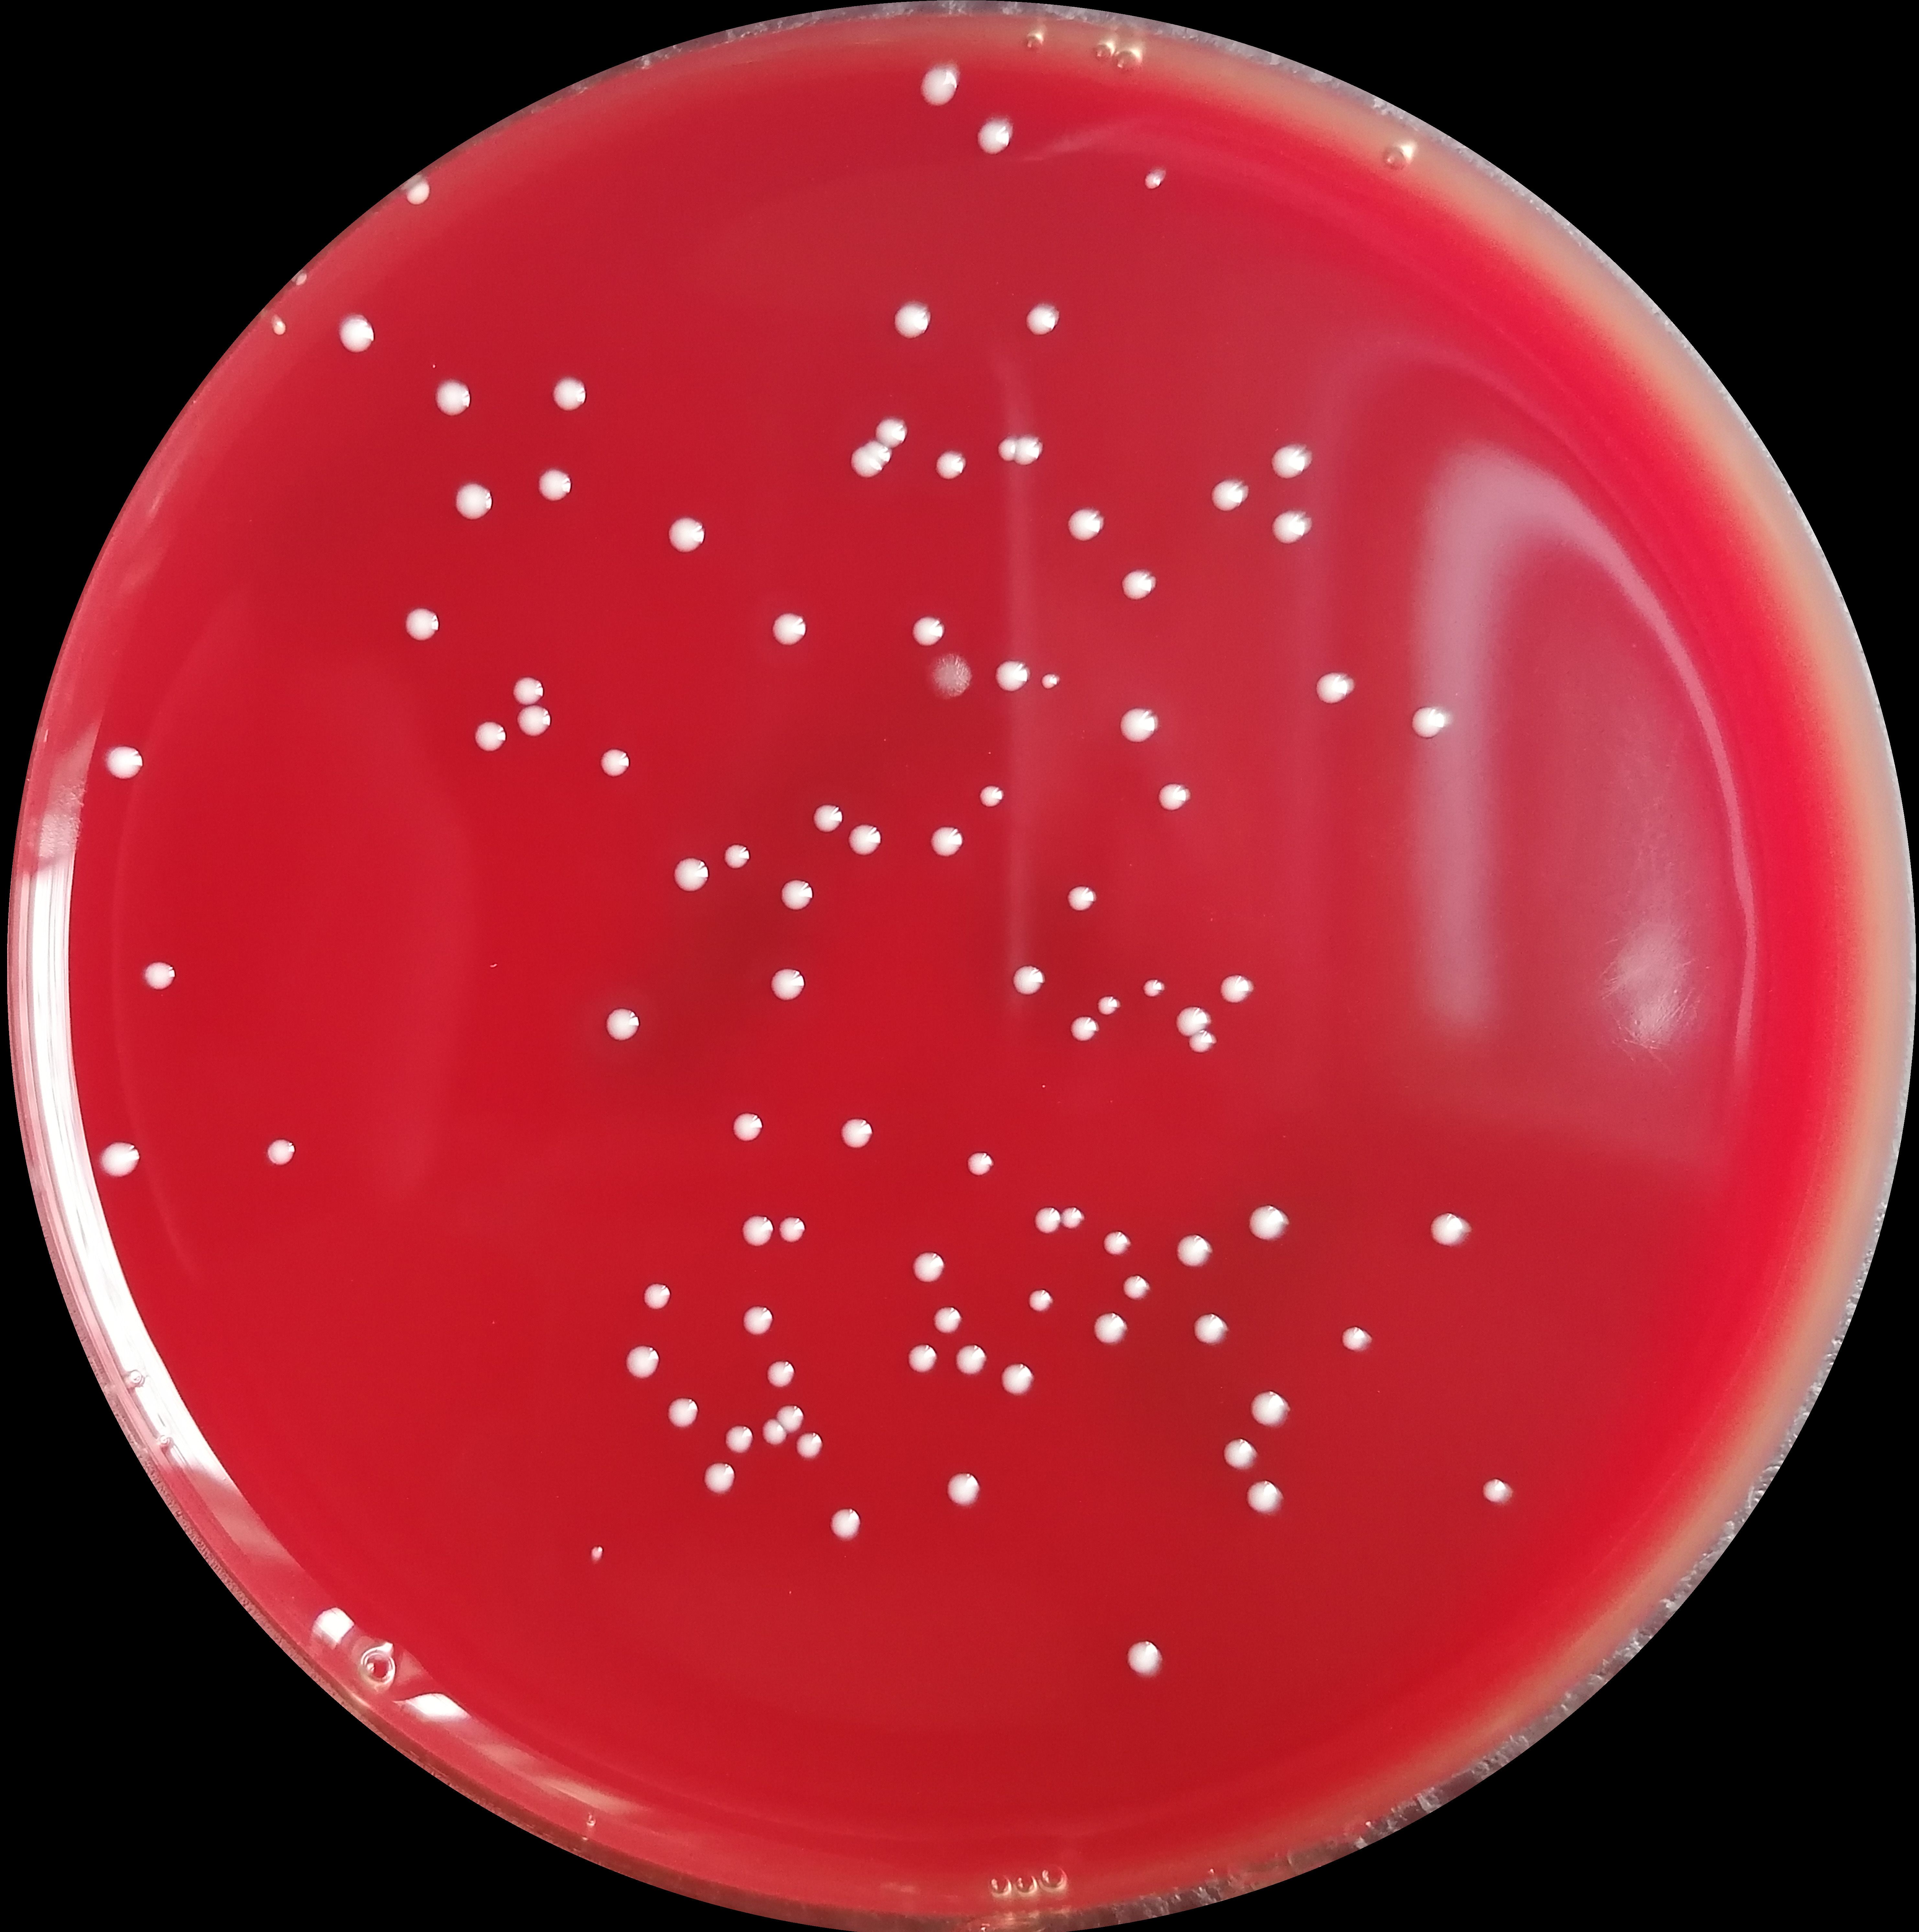sp21: (974, 111, 1023, 162), (914, 63, 963, 111), (1112, 701, 1162, 748), (931, 652, 974, 706), (547, 372, 594, 420), (886, 295, 938, 337), (1244, 1388, 1290, 1435), (334, 311, 381, 357), (1267, 506, 1314, 550), (450, 479, 499, 522), (98, 741, 149, 782), (97, 1138, 144, 1180), (670, 852, 715, 894), (429, 376, 474, 418), (1264, 441, 1313, 479), (401, 604, 445, 646), (513, 701, 557, 743), (1425, 1210, 1471, 1251), (1313, 666, 1355, 706), (942, 1470, 984, 1510), (1019, 300, 1063, 339), (1248, 1201, 1288, 1242), (1206, 476, 1248, 515), (1118, 564, 1160, 602), (1408, 703, 1450, 741), (844, 820, 886, 859), (622, 1344, 664, 1382), (988, 657, 1032, 694), (768, 609, 812, 646), (668, 515, 708, 553), (928, 822, 968, 861), (601, 1003, 641, 1042), (777, 875, 817, 913), (1065, 506, 1107, 543), (1153, 778, 1195, 815), (1174, 1003, 1216, 1040), (1009, 962, 1047, 1001), (699, 1460, 738, 1498), (532, 469, 573, 506), (836, 1115, 877, 1152), (768, 966, 808, 1003), (728, 1108, 768, 1145), (1174, 1233, 1214, 1270), (137, 959, 179, 994), (845, 444, 882, 483), (471, 717, 510, 753), (596, 743, 634, 780), (1214, 971, 1255, 1006), (508, 673, 548, 708), (1244, 1481, 1285, 1516), (1125, 1640, 1165, 1676), (870, 415, 912, 448), (1093, 1308, 1130, 1345), (807, 801, 845, 836), (1000, 1359, 1035, 1398), (1190, 1312, 1228, 1347), (1221, 1437, 1260, 1472), (931, 450, 972, 483), (907, 615, 947, 648), (1009, 434, 1046, 469), (262, 1135, 299, 1170), (738, 1212, 775, 1247), (664, 1395, 699, 1431), (740, 1303, 775, 1338), (829, 1505, 863, 1542), (910, 1251, 945, 1284), (952, 1344, 989, 1375), (907, 1342, 940, 1375), (1067, 1013, 1102, 1045), (858, 436, 896, 464), (764, 1358, 796, 1391), (722, 1424, 756, 1456), (972, 778, 1007, 808), (1339, 1324, 1374, 1354), (1065, 882, 1097, 913), (963, 1149, 995, 1180), (721, 841, 754, 871), (640, 1282, 673, 1312), (1139, 165, 1174, 193), (993, 432, 1019, 469), (1186, 1027, 1216, 1059), (933, 1305, 963, 1337), (1480, 1475, 1511, 1505), (775, 1403, 805, 1433), (759, 1417, 787, 1447), (794, 1430, 822, 1460), (1033, 1205, 1061, 1235), (1100, 1229, 1130, 1258), (1093, 992, 1121, 1020), (778, 1214, 807, 1242), (402, 179, 432, 205), (1121, 1273, 1151, 1300), (1028, 1287, 1054, 1314), (1060, 1203, 1084, 1231), (267, 309, 290, 337), (1035, 669, 1061, 692), (1141, 977, 1167, 999), (288, 269, 311, 288), (587, 1546, 606, 1561), (427, 357, 439, 372)
